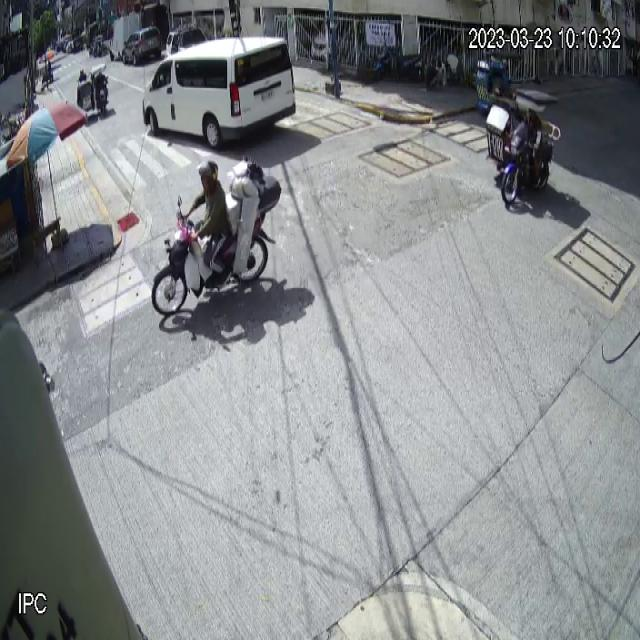Motorcycle: (152, 192, 276, 318)
Tricycle: (486, 84, 564, 210)
Van: (142, 36, 298, 148)
